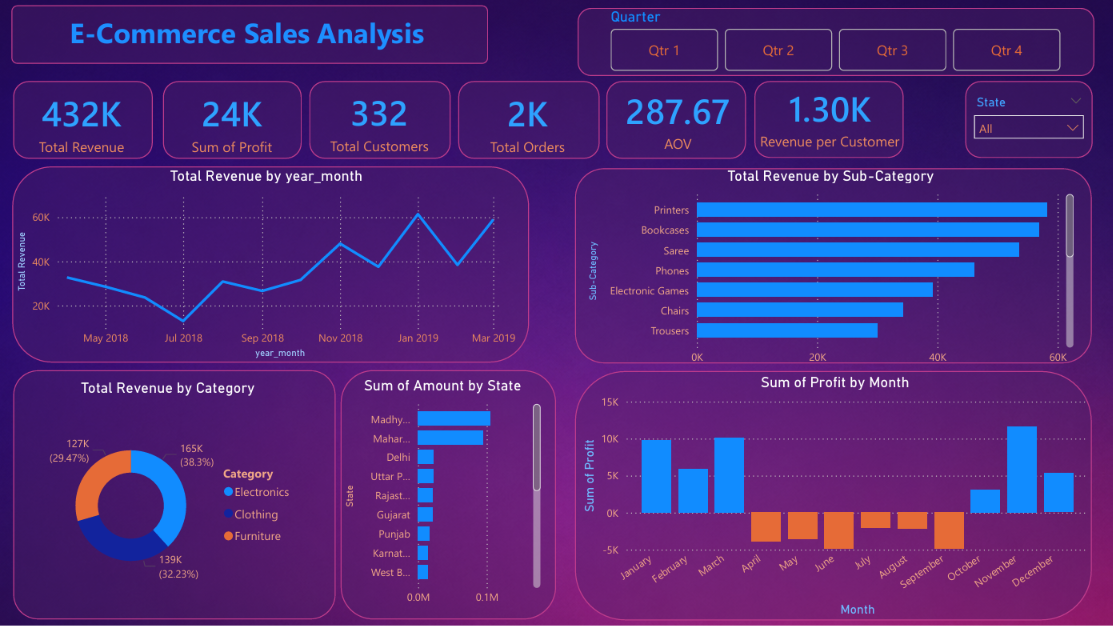

This screenshot's page, from the dashboard's own definition file:
{"tool":"powerbi","page":{"name":"Page 1","canvas":[1280,720],"ordinal":0},"visuals":[{"type":"shape","box":[15.7,425.9,370.4,285.9],"z":0},{"type":"shape","box":[14.5,7.2,546.5,66.4],"z":1000},{"type":"shape","box":[660.8,426.6,592.9,286.3],"z":2000},{"type":"shape","box":[1108.7,94.1,146,88.1],"z":3000},{"type":"shape","box":[697.3,94.1,159.3,89.3],"z":4000},{"type":"shape","box":[660.8,193.8,592.9,224.1],"z":5000},{"type":"shape","box":[15.7,94.1,160.5,89.3],"z":6000},{"type":"shape","box":[661.1,7.2,593.6,78.4],"z":7000},{"type":"shape","box":[188.2,94.1,159.3,89.3],"z":8000},{"type":"shape","box":[15.3,192,592.7,225.4],"z":9000},{"type":"shape","box":[392.1,425.9,247.3,285.9],"z":10000},{"type":"shape","box":[527.2,94.1,161.7,89.3],"z":11000},{"type":"shape","box":[355.9,94.1,161.7,89.3],"z":12000},{"type":"cardVisual","fields":{"Data":["CleanedData.Total Revenue"]},"box":[14.5,68.8,160.5,143.6],"z":13000},{"type":"cardVisual","fields":{"Data":["Sum(CleanedData.Profit)"]},"box":[188.2,86.9,158,108.6],"z":14000},{"type":"cardVisual","fields":{"Data":["CleanedData.AOV"]},"box":[688.9,80.8,179.8,113.4],"z":15000},{"type":"cardVisual","fields":{"Data":["CleanedData.Total Orders"]},"box":[527.2,86.9,159.3,107.4],"z":16000},{"type":"cardVisual","fields":{"Data":["CleanedData.Total Customers"]},"box":[348.7,85.7,174.9,108.6],"z":17000},{"type":"lineChart","title":"Total Revenue by year_month","fields":{"Category":["CleanedData.year_month"],"Y":["CleanedData.Total Revenue"]},"box":[15.3,192,583,225.4],"z":18000},{"type":"barChart","fields":{"Category":["CleanedData.State"],"Y":["Sum(CleanedData.Amount)"]},"box":[392.1,433.1,234,271.4],"z":19000},{"type":"barChart","fields":{"Category":["CleanedData.Sub-Category"],"Y":["CleanedData.Total Revenue"]},"box":[670.8,191.8,567,237.7],"z":20000},{"type":"columnChart","fields":{"Y":["Sum(CleanedData.Profit)"],"Category":["CleanedData.year_month.Variation.Date Hierarchy.Month"]},"box":[663.7,429.5,591.4,284.9],"z":21000},{"type":"shape","box":[867.4,94.1,170.1,88.1],"z":22000},{"type":"cardVisual","fields":{"Data":["CleanedData.Revenue per Customer"]},"box":[842.1,78.4,223.2,113.4],"z":23000},{"type":"slicer","fields":{"Values":["CleanedData.State"]},"box":[1108.7,105,146,77.2],"z":24000},{"type":"advancedSlicerVisual","fields":{"Values":["CleanedData.Order Date.Variation.Date Hierarchy.Quarter"]},"box":[697.3,9.7,526,78.4],"z":25000},{"type":"textbox","box":[76,9.7,424.7,63.9],"z":26000},{"type":"donutChart","fields":{"Category":["CleanedData.Category"],"Y":["CleanedData.Total Revenue"]},"box":[39.8,435.5,307.6,272.7],"z":27000}]}

Visuals, with their boxes in screenshot pixels (x1, y1, x2, y2), scaled from the page's 1280x720 canvas onto the 1113x626 screenshot:
shape: (x1=14, y1=370, x2=336, y2=619)
shape: (x1=13, y1=6, x2=488, y2=64)
shape: (x1=575, y1=371, x2=1090, y2=620)
shape: (x1=964, y1=82, x2=1091, y2=158)
shape: (x1=606, y1=82, x2=745, y2=159)
shape: (x1=575, y1=168, x2=1090, y2=363)
shape: (x1=14, y1=82, x2=153, y2=159)
shape: (x1=575, y1=6, x2=1091, y2=74)
shape: (x1=164, y1=82, x2=302, y2=159)
shape: (x1=13, y1=167, x2=529, y2=363)
shape: (x1=341, y1=370, x2=556, y2=619)
shape: (x1=458, y1=82, x2=599, y2=159)
shape: (x1=309, y1=82, x2=450, y2=159)
cardVisual - CleanedData.Total Revenue: (x1=13, y1=60, x2=152, y2=185)
cardVisual - Sum(CleanedData.Profit): (x1=164, y1=76, x2=301, y2=170)
cardVisual - CleanedData.AOV: (x1=599, y1=70, x2=755, y2=169)
cardVisual - CleanedData.Total Orders: (x1=458, y1=76, x2=597, y2=169)
cardVisual - CleanedData.Total Customers: (x1=303, y1=75, x2=455, y2=169)
"Total Revenue by year_month" lineChart: (x1=13, y1=167, x2=520, y2=363)
barChart - CleanedData.State x Sum(CleanedData.Amount): (x1=341, y1=377, x2=544, y2=613)
barChart - CleanedData.Sub-Category x CleanedData.Total Revenue: (x1=583, y1=167, x2=1076, y2=373)
columnChart - Sum(CleanedData.Profit) x CleanedData.year_month.Variation.Date Hierarchy.Month: (x1=577, y1=373, x2=1091, y2=621)
shape: (x1=754, y1=82, x2=902, y2=158)
cardVisual - CleanedData.Revenue per Customer: (x1=732, y1=68, x2=926, y2=167)
slicer - CleanedData.State: (x1=964, y1=91, x2=1091, y2=158)
advancedSlicerVisual - CleanedData.Order Date.Variation.Date Hierarchy.Quarter: (x1=606, y1=8, x2=1064, y2=77)
textbox: (x1=66, y1=8, x2=435, y2=64)
donutChart - CleanedData.Category x CleanedData.Total Revenue: (x1=35, y1=379, x2=302, y2=616)
